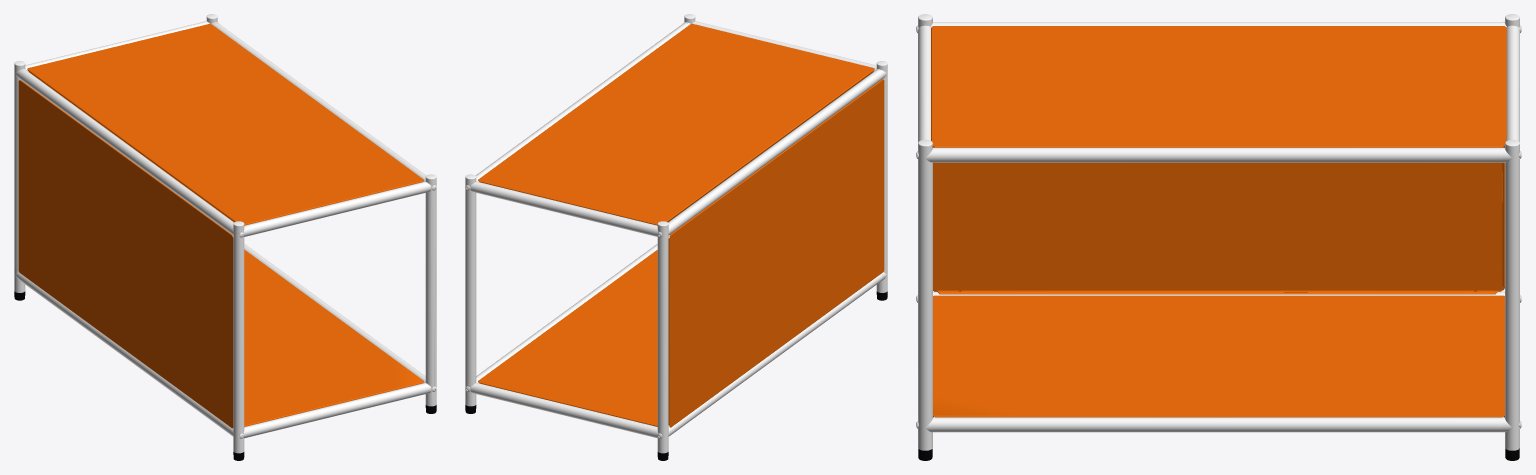
The model's file is 80x40x40-1-2-Orange_optimized_optimized.glb.
The picture shows the model from 3 angles, left to right: view 1: azimuth 30°, elevation 25°; view 2: azimuth 150°, elevation 25°; view 3: azimuth 270°, elevation 25°; orthographic projection. The views are drawn at different scales.
Parts seen in each view (by area): view 1: 直角鐵板-80x40-5 - 零件, new-上塞-1 - 零件; view 2: 直角鐵板-80x40-5 - 零件, new-上塞-1 - 零件; view 3: 直角鐵板-80x40-5 - 零件, new-上塞-1 - 零件.
Part boxes in pixels (<box>): 直角鐵板-80x40-5 - 零件: <box>18,23,423,428</box>; new-上塞-1 - 零件: <box>14,14,436,453</box>; 直角鐵板-80x40-5 - 零件: <box>478,23,884,427</box>; new-上塞-1 - 零件: <box>465,14,887,453</box>; 直角鐵板-80x40-5 - 零件: <box>931,26,1506,417</box>; new-上塞-1 - 零件: <box>916,14,1521,450</box>.
Bounding box in the file's own units: 0.3992 × 0.4453 × 0.7732.
